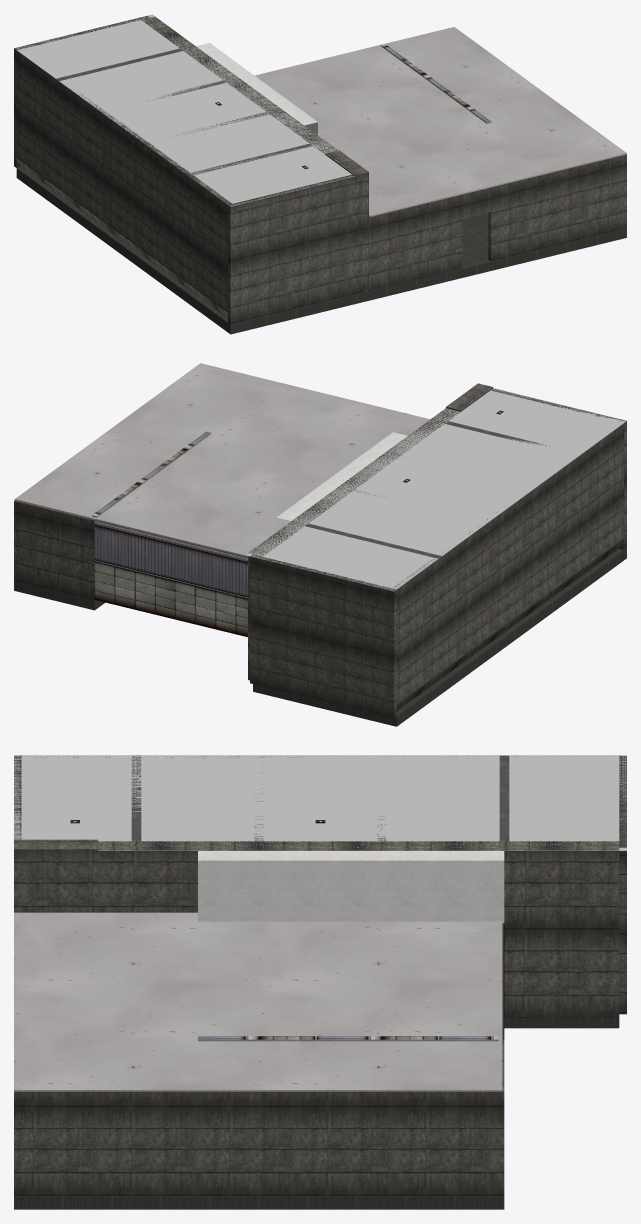
File: HC_cont1_173.gltf
3 views of the same model, one above another, from view 1: azimuth 30°, elevation 25°; view 2: azimuth 150°, elevation 25°; view 3: azimuth 270°, elevation 25° (orthographic). The views are drawn at different scales.
Visible parts, largest first — view 1: HC_cont1_173; view 2: HC_cont1_173; view 3: HC_cont1_173.
Boxes of the visible parts, x1,y1,x2,y2 form: HC_cont1_173: (14,14,626,334); HC_cont1_173: (14,363,626,726); HC_cont1_173: (14,755,626,1209).
Size of the model in its own units: 27.04 by 8.4 by 25.6.
